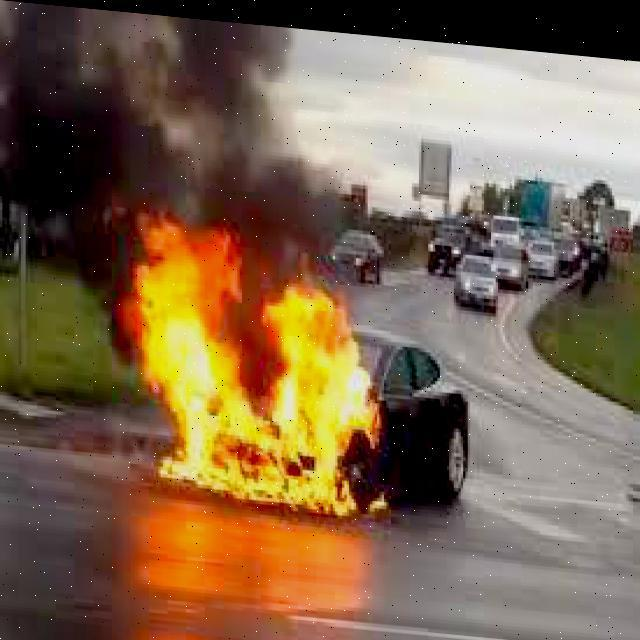Fire: (109, 197, 391, 526)
